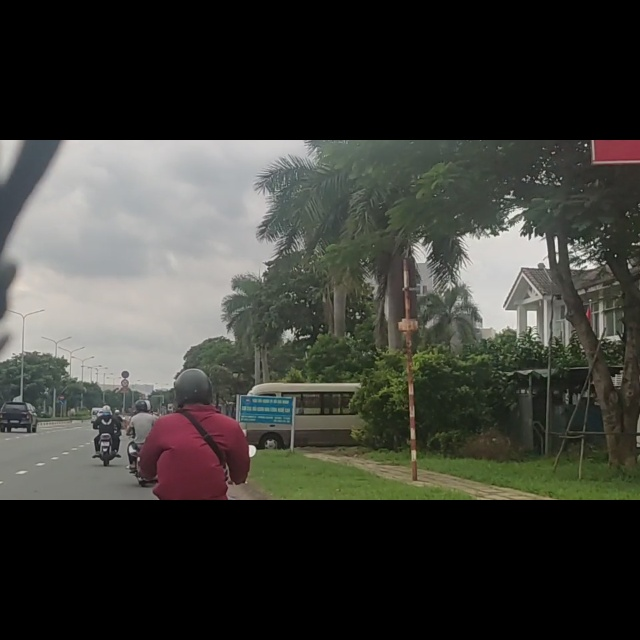bien_nguy_hiem: (121, 410, 130, 423), (58, 461, 65, 473), (59, 452, 65, 462)
